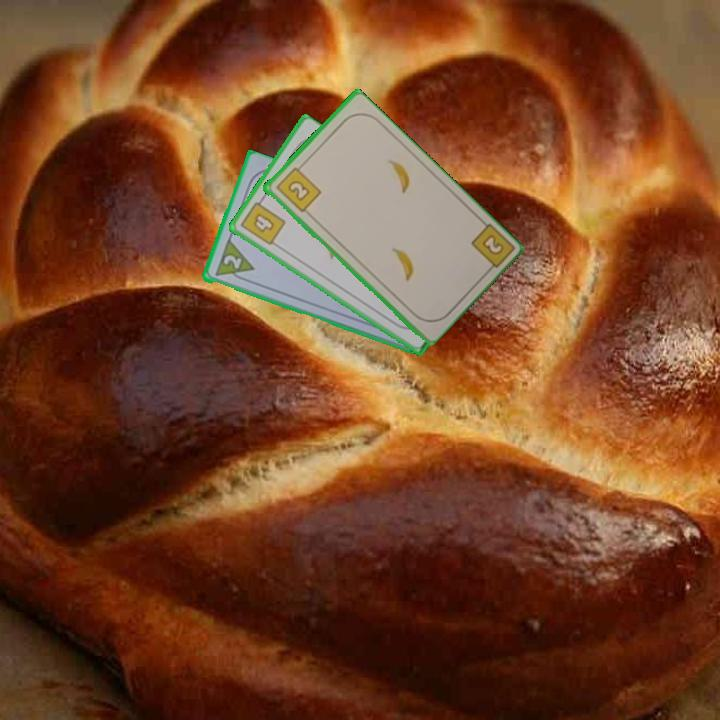2b: (272, 161, 324, 215), (467, 220, 515, 278)
2p: (219, 251, 244, 272)
4b: (237, 194, 289, 248)
